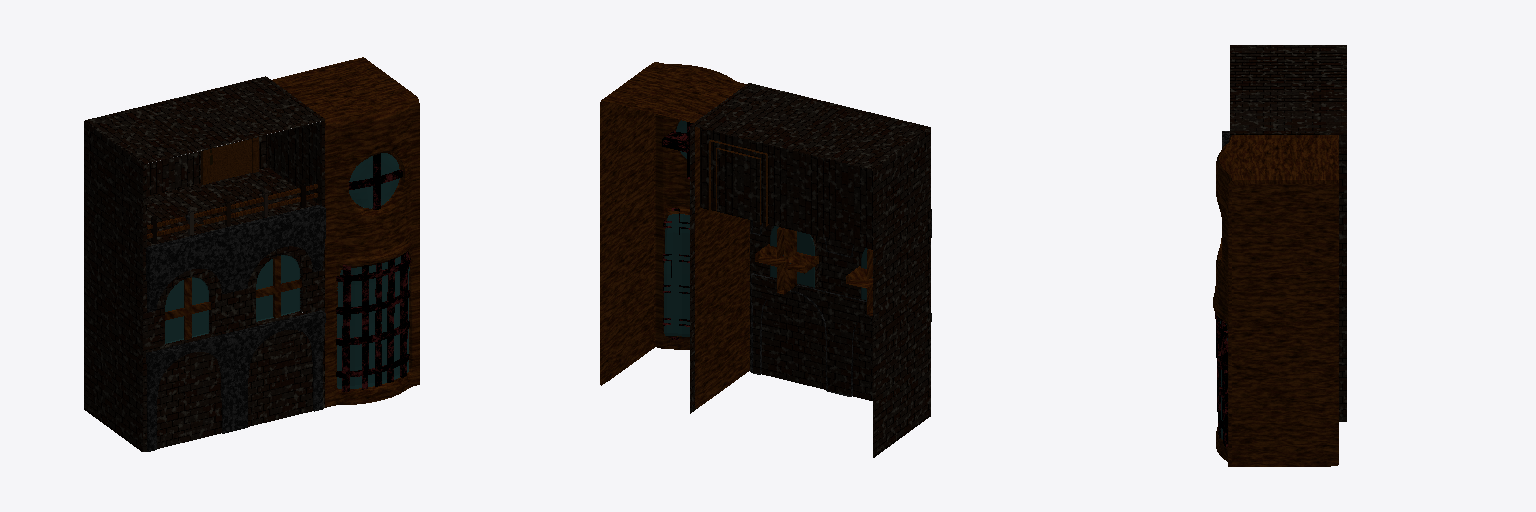
3 renders of one model, left to right at view 1: azimuth 30°, elevation 25°; view 2: azimuth 150°, elevation 25°; view 3: azimuth 270°, elevation 25°, orthographic.
Visible parts, largest first — view 1: sub1.001, part2_.003, door_bake.005; view 2: sub1.001, part2_.003, door_bake.005; view 3: part2_.003, sub1.001.
Part boxes in pixels (bbox=[...]): sub1.001: bbox=[84, 76, 325, 451]; part2_.003: bbox=[272, 57, 419, 407]; door_bake.005: bbox=[201, 137, 258, 184]; sub1.001: bbox=[690, 83, 931, 457]; part2_.003: bbox=[600, 62, 749, 408]; door_bake.005: bbox=[709, 140, 768, 226]; part2_.003: bbox=[1213, 135, 1338, 466]; sub1.001: bbox=[1222, 45, 1346, 421].
Bounding box in the file's own units: 16.11 × 16.08 × 6.81.
3 materials, 3 textured.